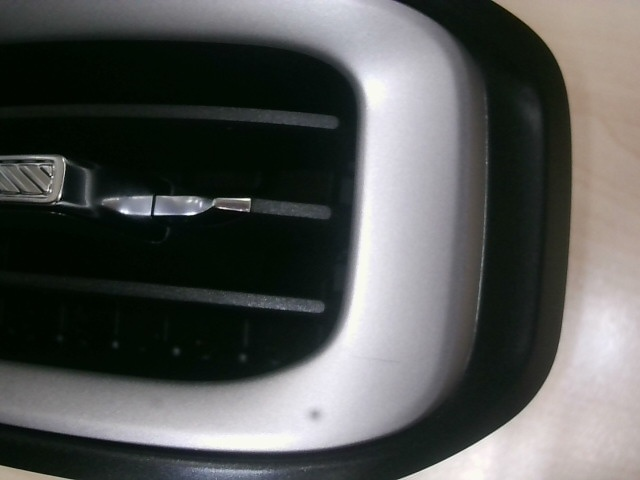NG: (345, 343, 413, 376)
